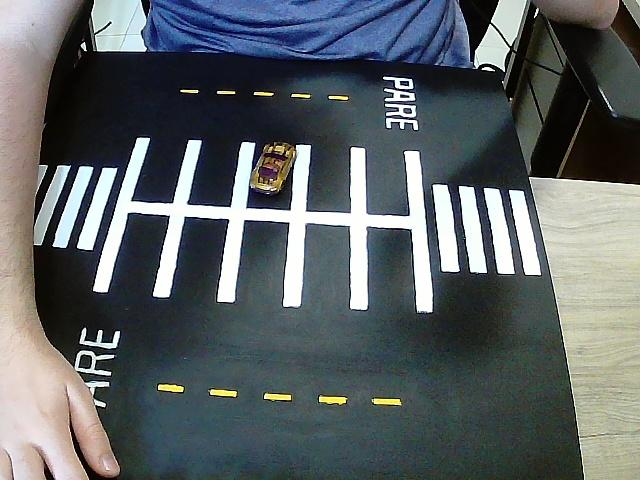Carro: (250, 142, 295, 195)
